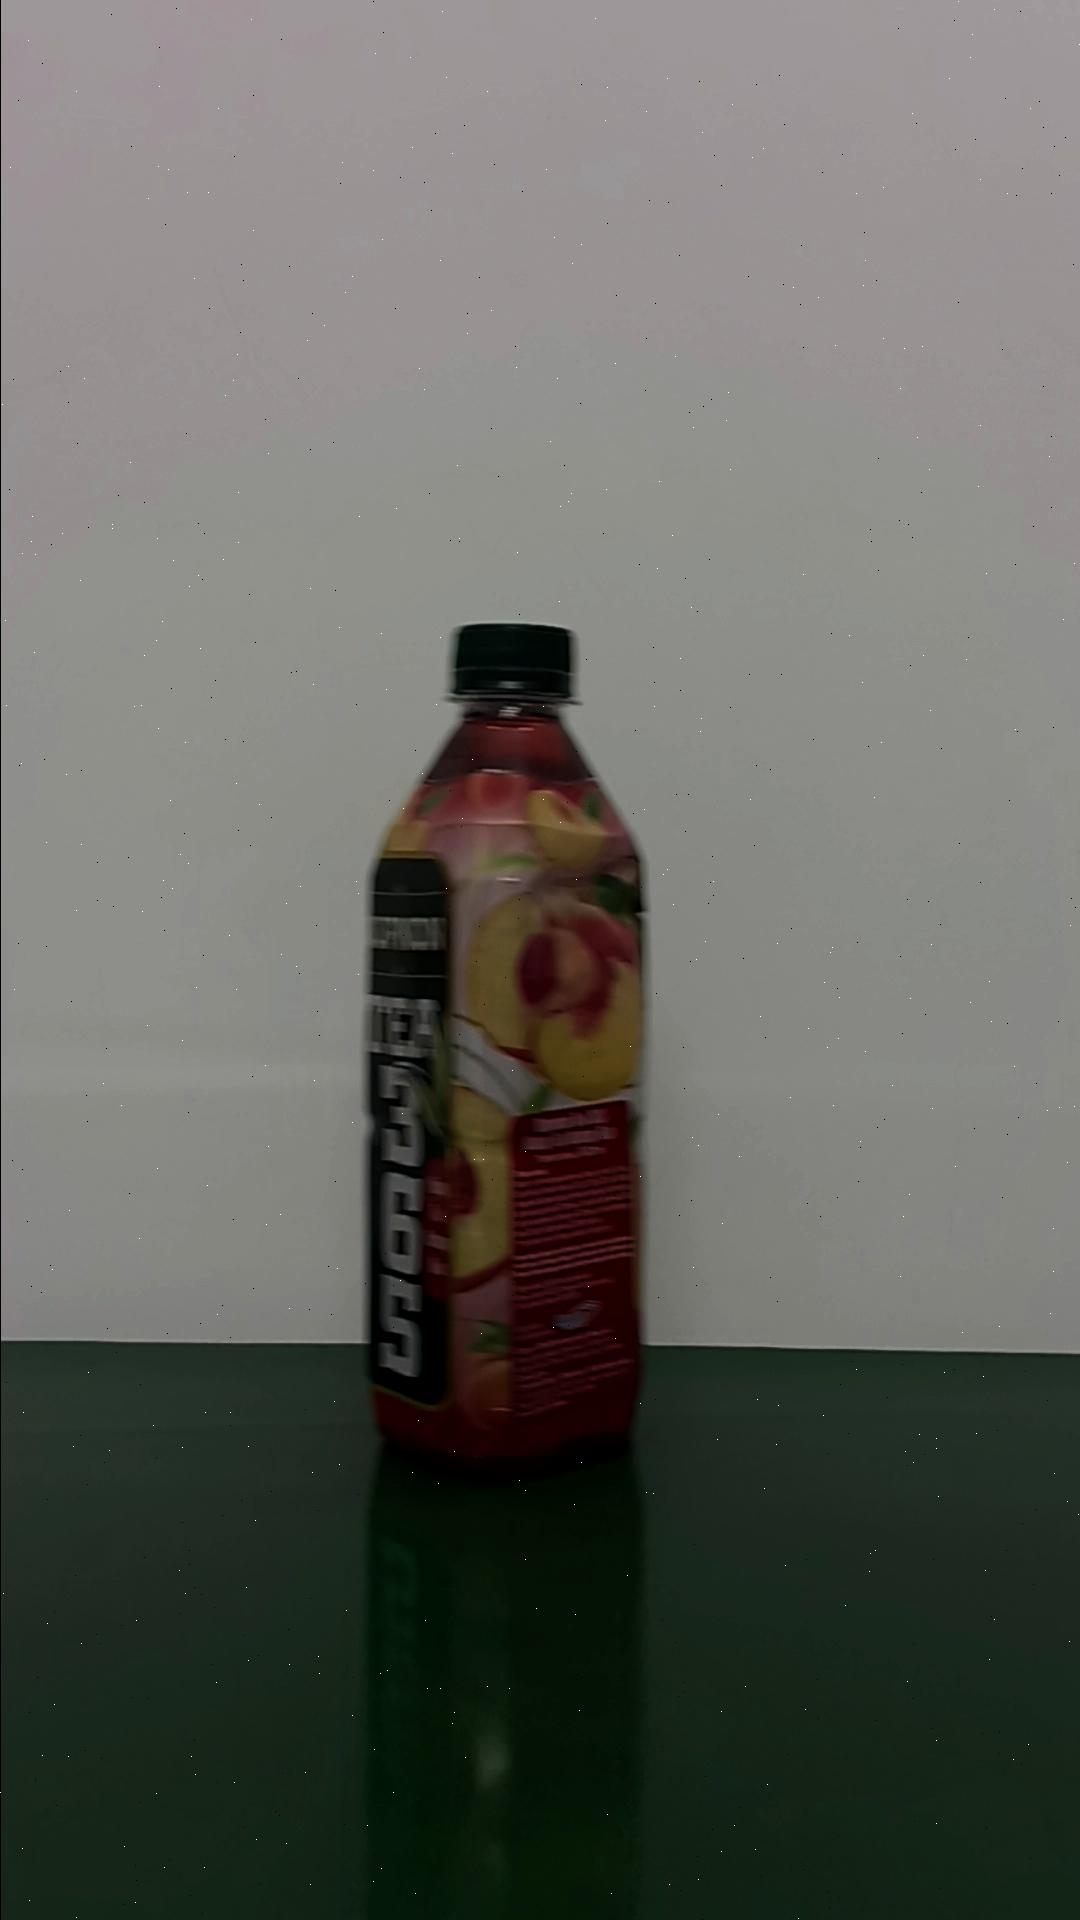loi meo sp: (361, 618, 647, 1478)
